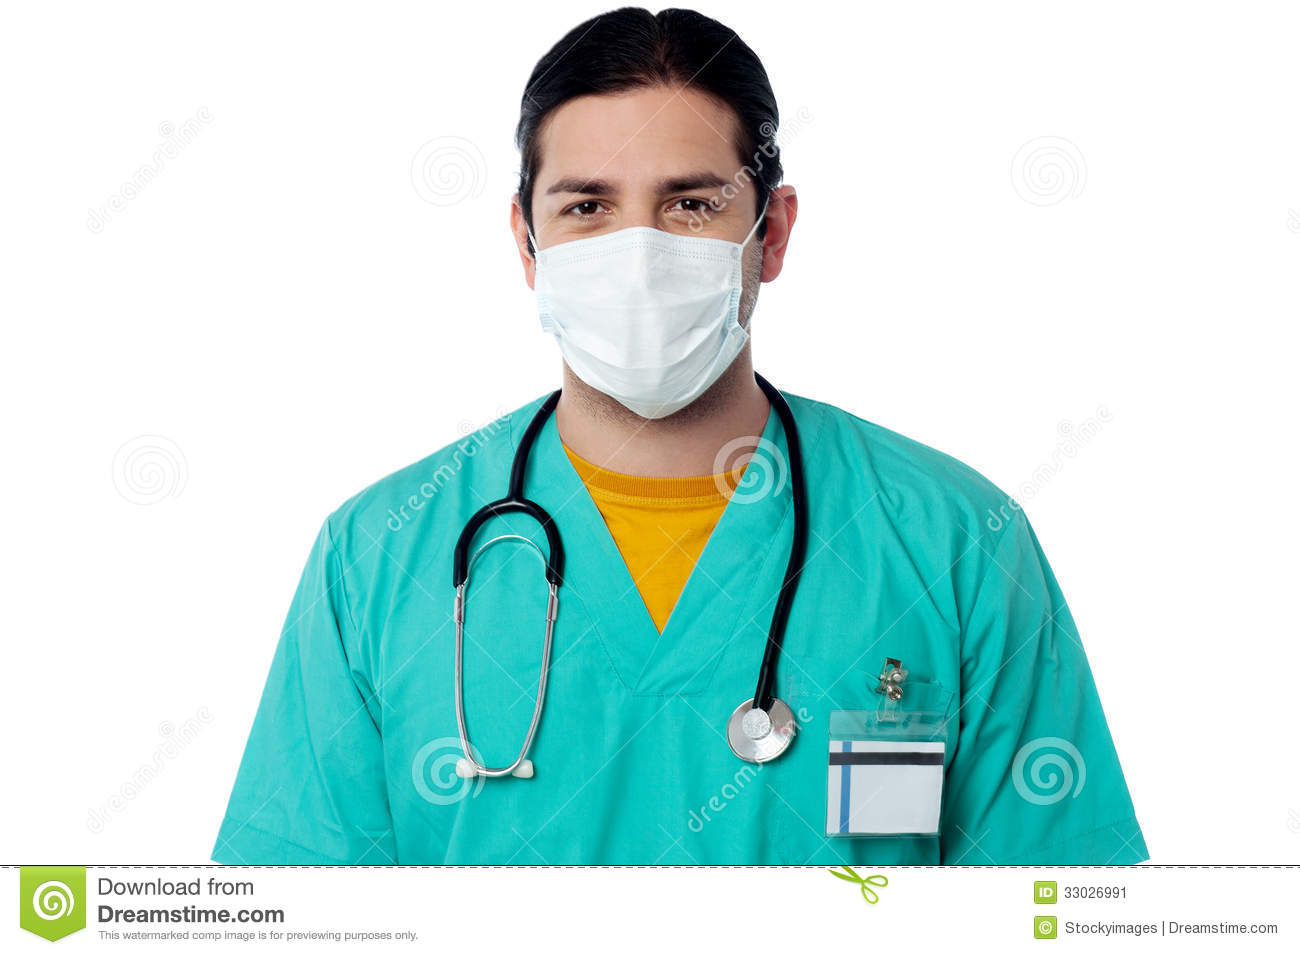mask: (526, 228, 767, 406)
